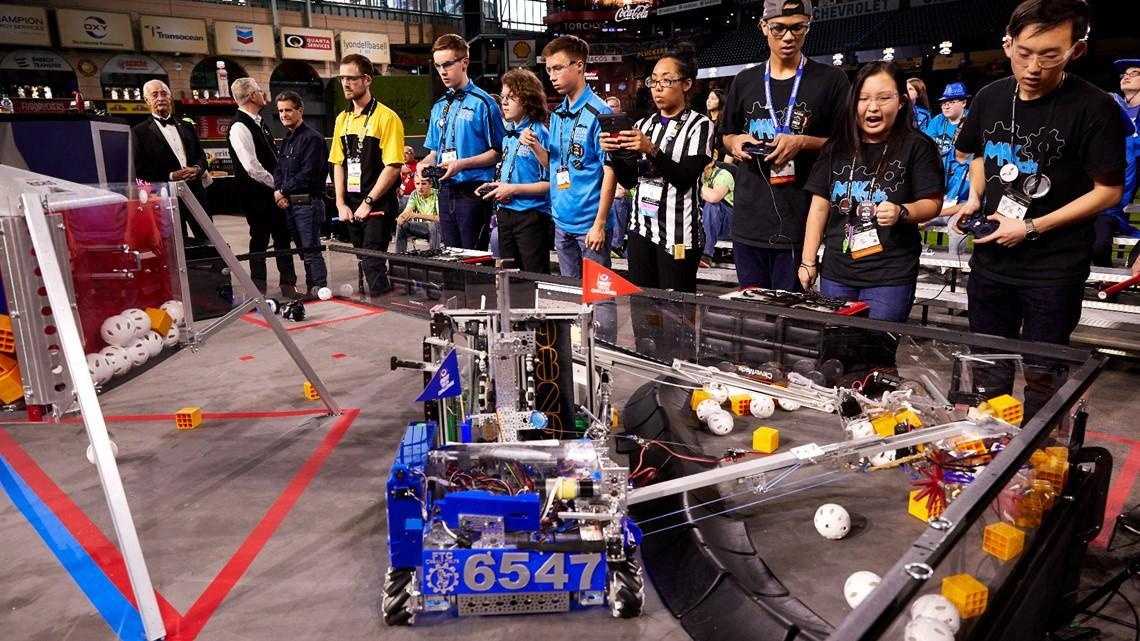robot: (379, 248, 1009, 638)
